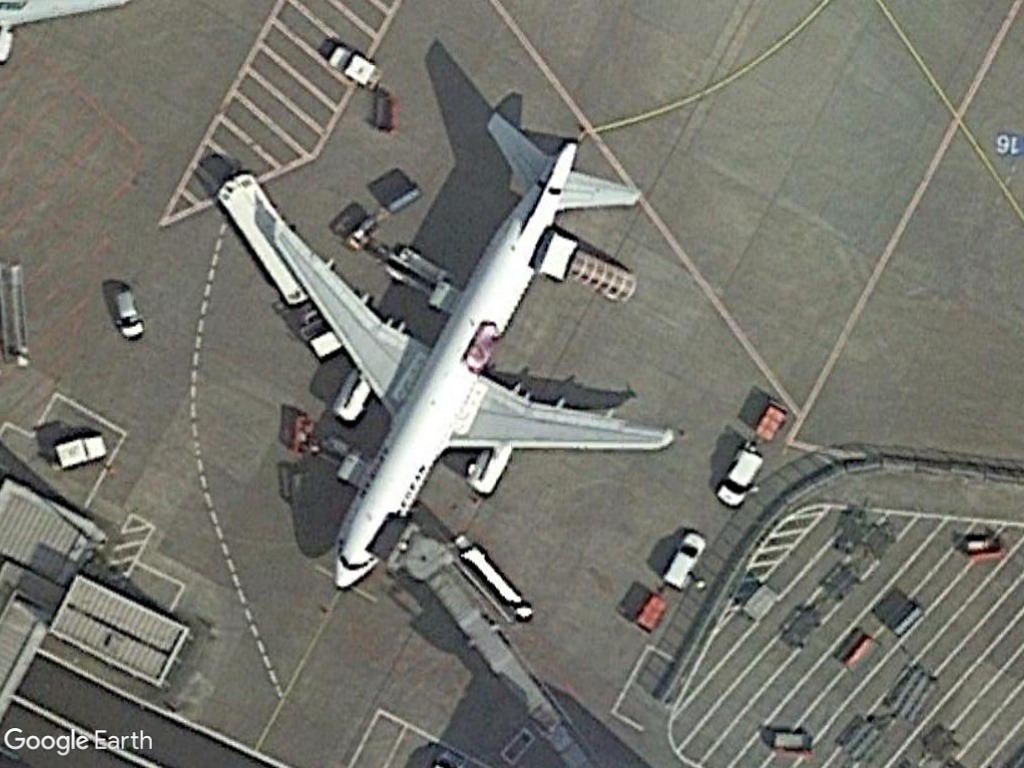airliner: (268, 109, 681, 599)
van: (712, 446, 770, 516), (658, 532, 709, 594), (109, 284, 148, 342)
